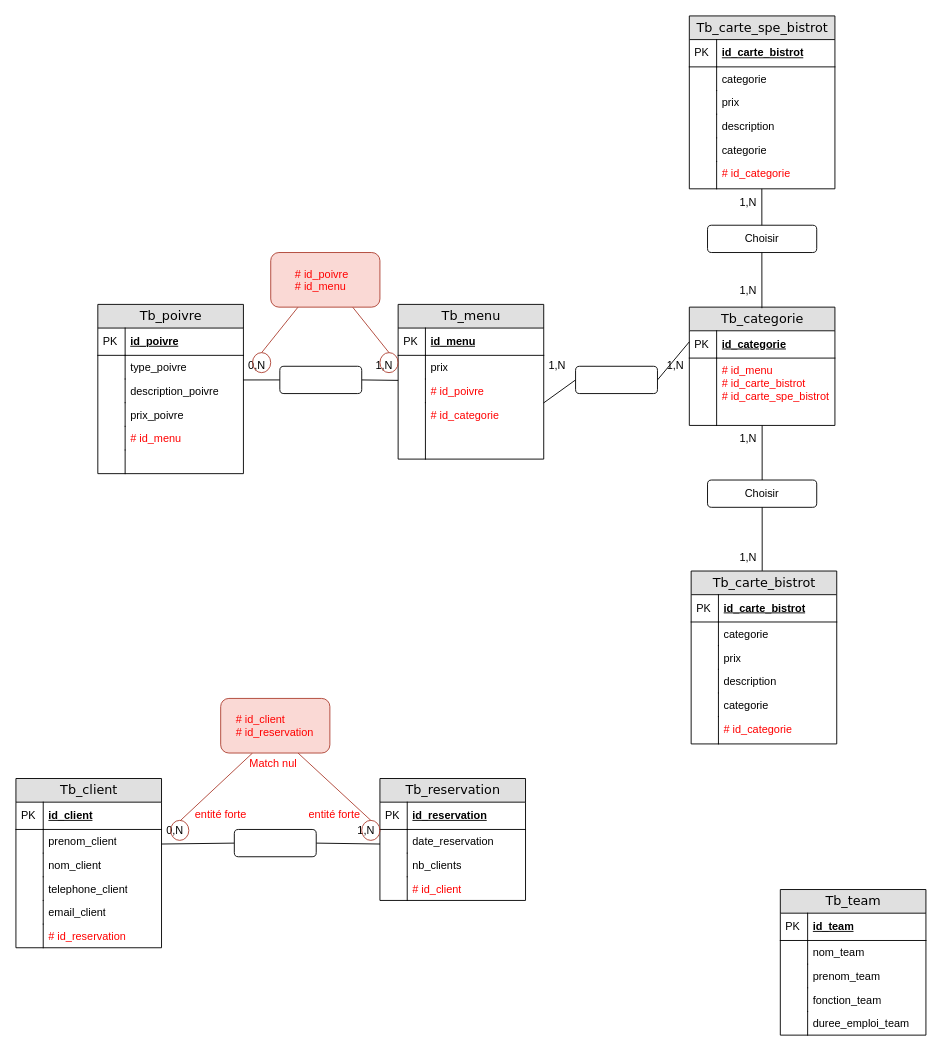
This 942x1054 diagram has some shape labels left out. Here are the shapes that lost their labels. From the top down, the centre of each, then its label:
At point 320,379: "Ajouter".
At point 616,379: "Composer".
At point 274,843: "Effectuer".
